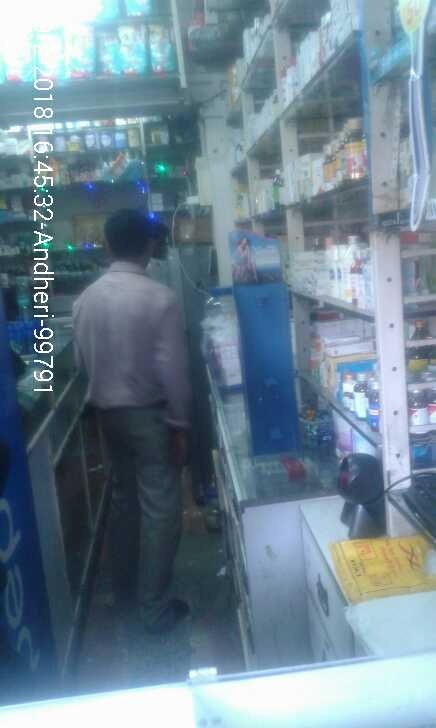reject: (216, 274, 287, 421)
